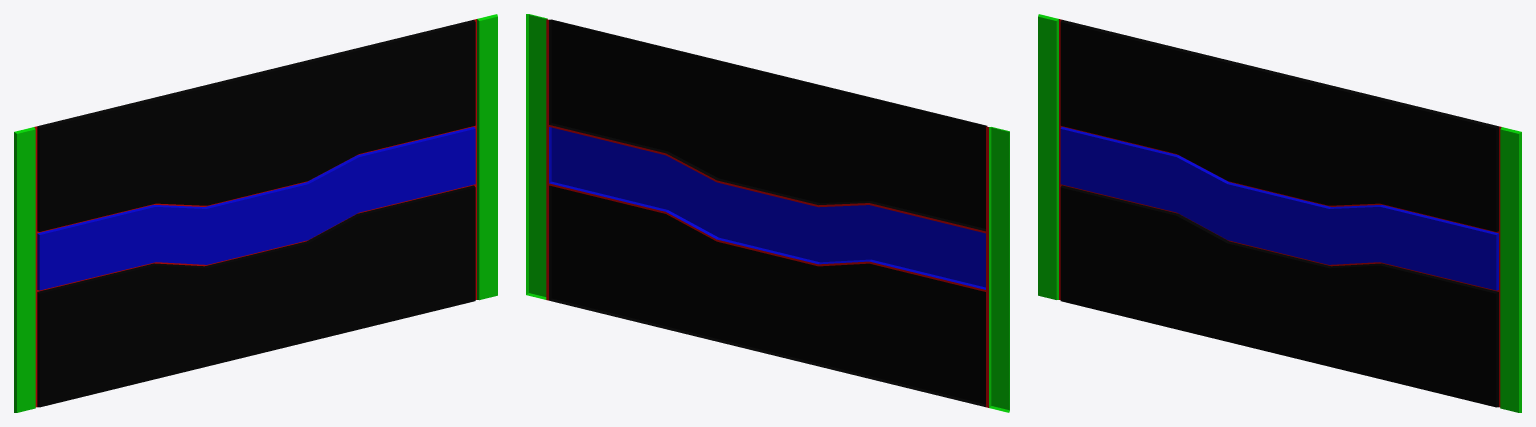
File: EngineerRoom_Wall.fbx
3 renders of one model, left to right at view 1: azimuth 30°, elevation 25°; view 2: azimuth 150°, elevation 25°; view 3: azimuth 330°, elevation 25°, orthographic.
Visible parts, largest first — view 1: Wall1; view 2: Wall1; view 3: Wall1.
Part boxes in pixels (x1,y1,x2,y2): Wall1: [14, 14, 497, 412]; Wall1: [526, 14, 1009, 412]; Wall1: [1038, 14, 1521, 412].
Size of the model in its own units: 450 by 250 by 3.08.
